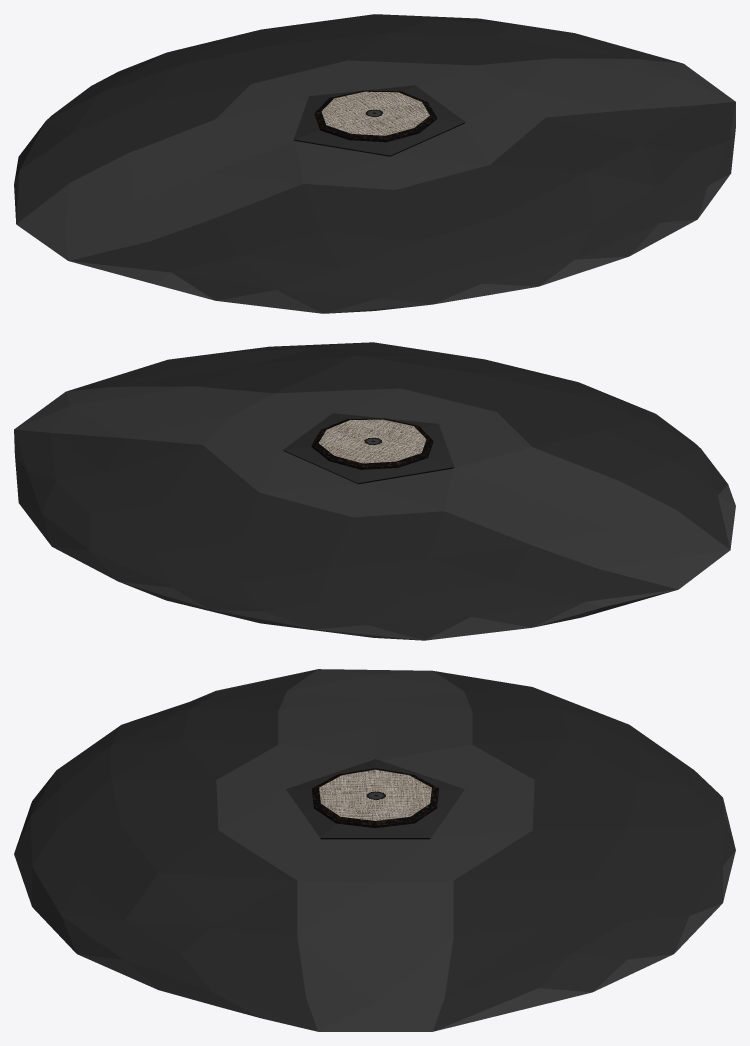
Rendered from WorldItem_LargeBladder.fbx.
The picture shows the model from 3 angles, top to bottom: view 1: azimuth 30°, elevation 25°; view 2: azimuth 150°, elevation 25°; view 3: azimuth 270°, elevation 25°; orthographic projection. The views are drawn at different scales.
Parts seen in each view (by area): view 1: ZomboidLargeBladder; view 2: ZomboidLargeBladder; view 3: ZomboidLargeBladder.
Boxes of the visible parts, <box> form: ZomboidLargeBladder: <box>14,14,735,313</box>; ZomboidLargeBladder: <box>14,342,735,640</box>; ZomboidLargeBladder: <box>14,669,735,1031</box>.
Size of the model in its own units: 0.2058 by 0.0179 by 0.175.
